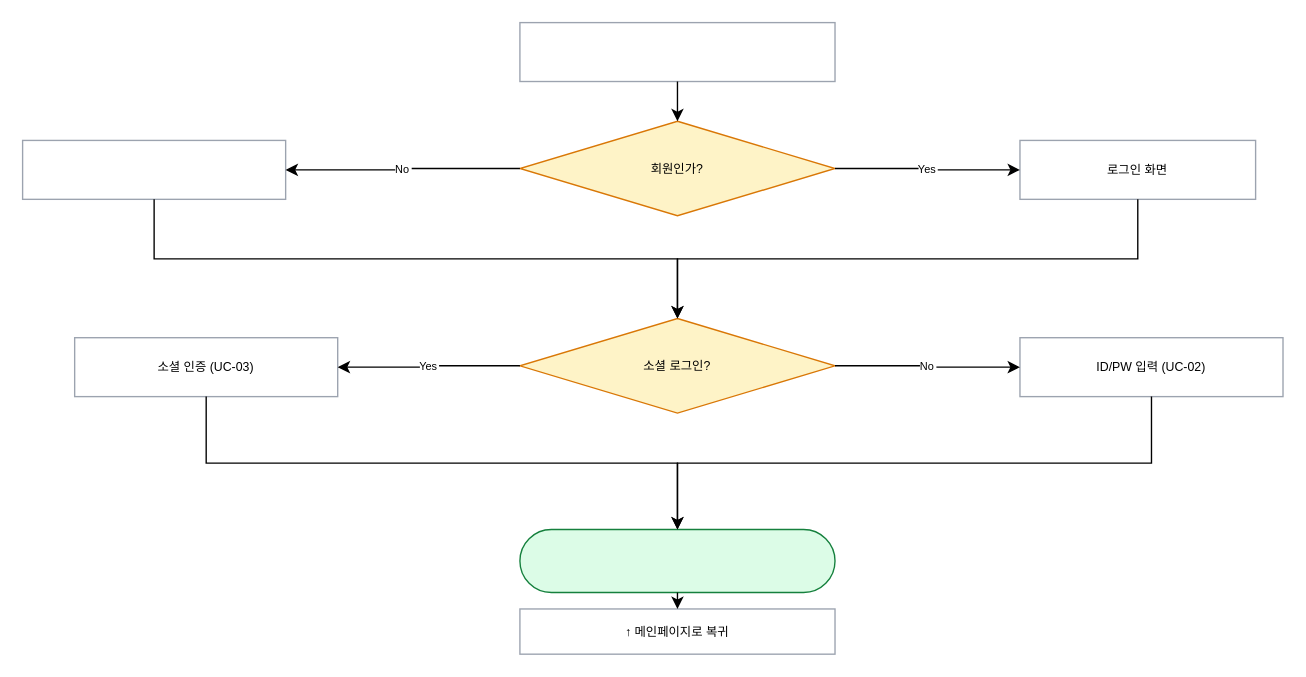
Image size: 1306x677. Some labels were removed from this diagram. Here are the shapes that lost their labels. From the top down, the centre of each, then its label:
the point at 677,51: 로그인 / 회원가입 진입
the point at 153,169: 회원가입 (UC-01)
the point at 677,560: 로그인 완료
